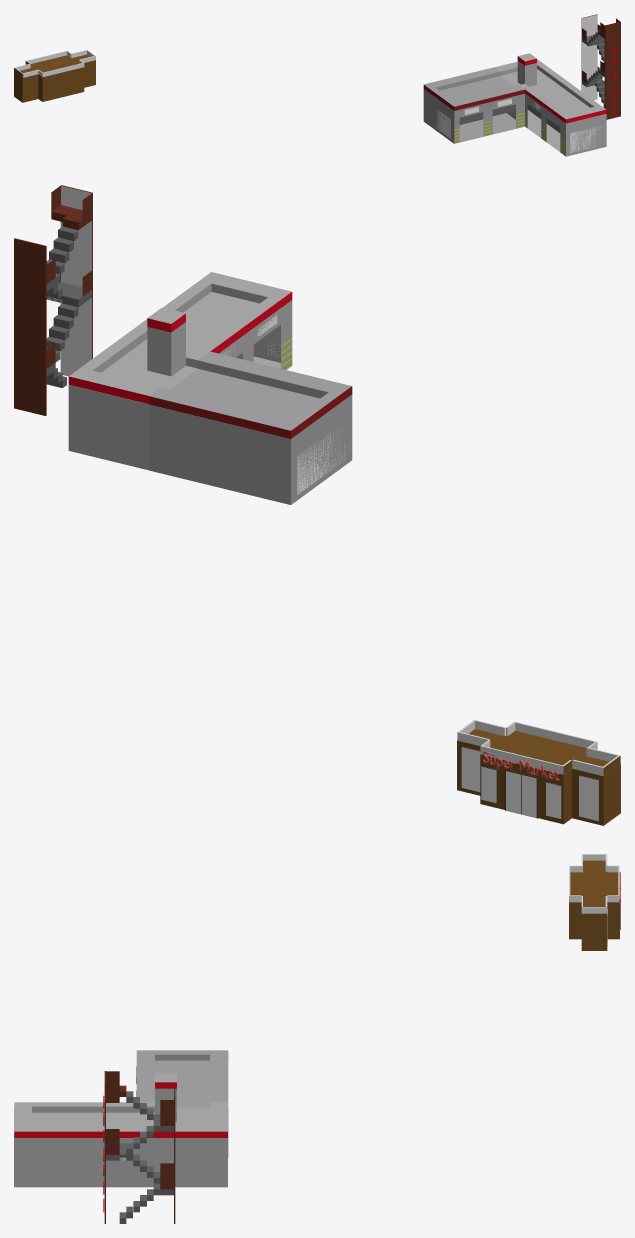
File: market.glb
3 views of the same model, one above another, from view 1: azimuth 30°, elevation 25°; view 2: azimuth 150°, elevation 25°; view 3: azimuth 270°, elevation 25° (orthographic). The views are drawn at different scales.
Visible parts, largest first — view 1: Plane.002, Plane.001, Plane, Plane.014, Plane.020; view 2: Plane.001, Plane.002, Plane, Plane.014, Plane.020; view 3: Plane.002, Plane.001, Plane, Plane.014, Plane.020.
Part boxes in pixels (bbox=[...]): Plane.002: bbox=[495, 53, 606, 156]; Plane.001: bbox=[423, 67, 565, 156]; Plane: bbox=[14, 50, 95, 102]; Plane.014: bbox=[581, 14, 620, 119]; Plane.020: bbox=[582, 32, 604, 107]; Plane.001: bbox=[149, 338, 352, 504]; Plane.002: bbox=[68, 272, 292, 470]; Plane: bbox=[457, 719, 620, 825]; Plane.014: bbox=[14, 185, 92, 415]; Plane.020: bbox=[46, 226, 91, 387]; Plane.002: bbox=[14, 1073, 227, 1187]; Plane.001: bbox=[136, 1050, 228, 1157]; Plane: bbox=[569, 854, 620, 950]; Plane.014: bbox=[104, 1071, 175, 1223]; Plane.020: bbox=[106, 1091, 173, 1223].
Size of the model in its own units: 55.68 by 11.44 by 44.54.
